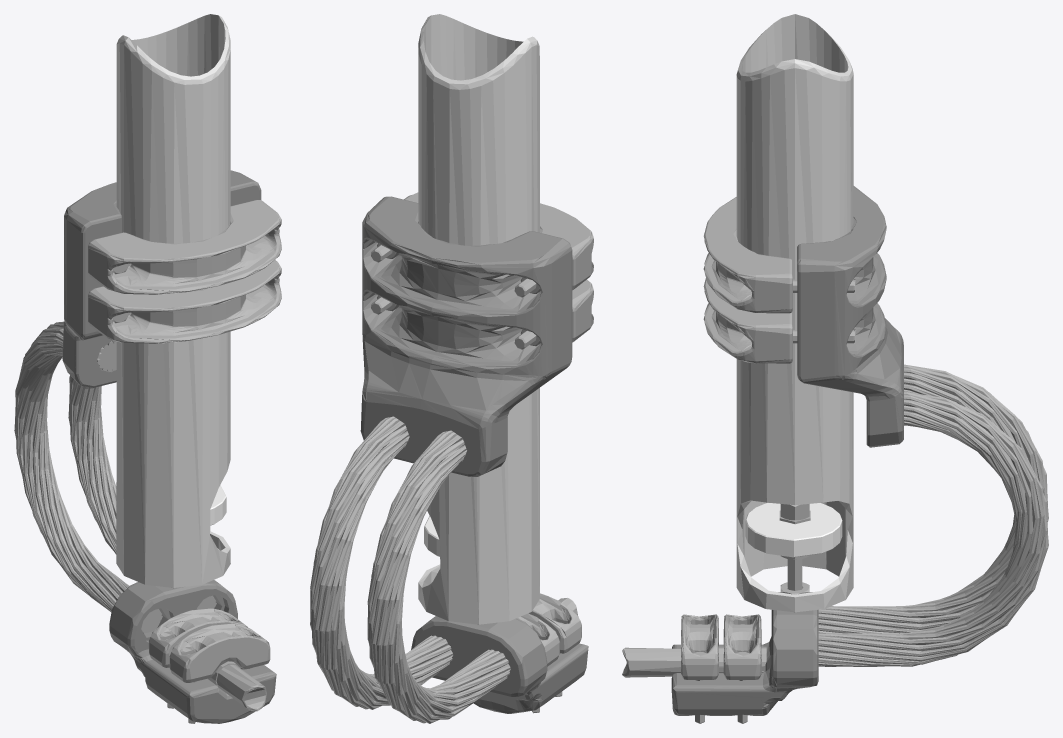
Rendered from cntp2.gltf.
The picture shows the model from 3 angles, left to right: view 1: azimuth 30°, elevation 25°; view 2: azimuth 150°, elevation 25°; view 3: azimuth 270°, elevation 25°; orthographic projection. The views are drawn at different scales.
Parts seen in each view (by area): view 1: Gt7Sj3Sa.001, Gt7Sj3Sa, Gt7Sj3Sa.003, Gt7Sj3Sa.004, Gt7Sj3Sa.005, Gt7Sj3Sa.002; view 2: Gt7Sj3Sa.001, Gt7Sj3Sa.004, Gt7Sj3Sa, Gt7Sj3Sa.003; view 3: Gt7Sj3Sa.001, Gt7Sj3Sa, Gt7Sj3Sa.004, Gt7Sj3Sa.003, Gt7Sj3Sa.002, Gt7Sj3Sa.005.
Boxes of the visible parts, x1,y1,x2,y2 form: Gt7Sj3Sa.001: (116, 14, 230, 587); Gt7Sj3Sa: (14, 200, 281, 723); Gt7Sj3Sa.003: (109, 580, 276, 723); Gt7Sj3Sa.004: (62, 170, 261, 387); Gt7Sj3Sa.005: (216, 664, 266, 711); Gt7Sj3Sa.002: (210, 485, 226, 525); Gt7Sj3Sa.001: (418, 14, 539, 624); Gt7Sj3Sa.004: (360, 196, 572, 476); Gt7Sj3Sa: (310, 192, 593, 723); Gt7Sj3Sa.003: (411, 616, 588, 713); Gt7Sj3Sa.001: (736, 14, 853, 612); Gt7Sj3Sa: (681, 197, 1048, 723); Gt7Sj3Sa.004: (797, 186, 903, 447); Gt7Sj3Sa.003: (671, 592, 818, 715); Gt7Sj3Sa.002: (745, 503, 842, 557); Gt7Sj3Sa.005: (622, 647, 765, 677).
Bounding box in the file's own units: 0.8997 × 3.14 × 1.81.
4 materials, 4 textured.
